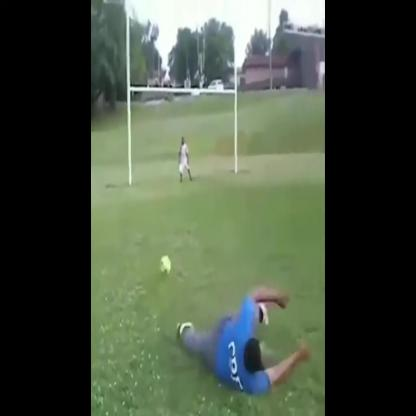Fall_Down: (176, 284, 308, 396)
